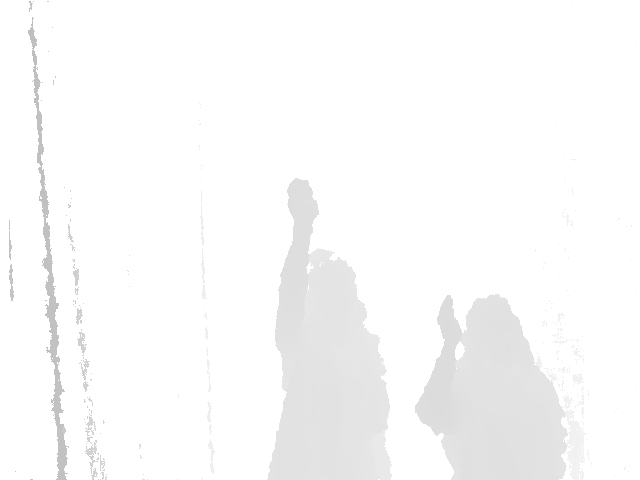hand: (287, 178, 318, 225), (437, 295, 462, 346)
head: (461, 295, 531, 358), (298, 247, 358, 310)
person: (265, 179, 394, 480), (412, 295, 570, 480)
